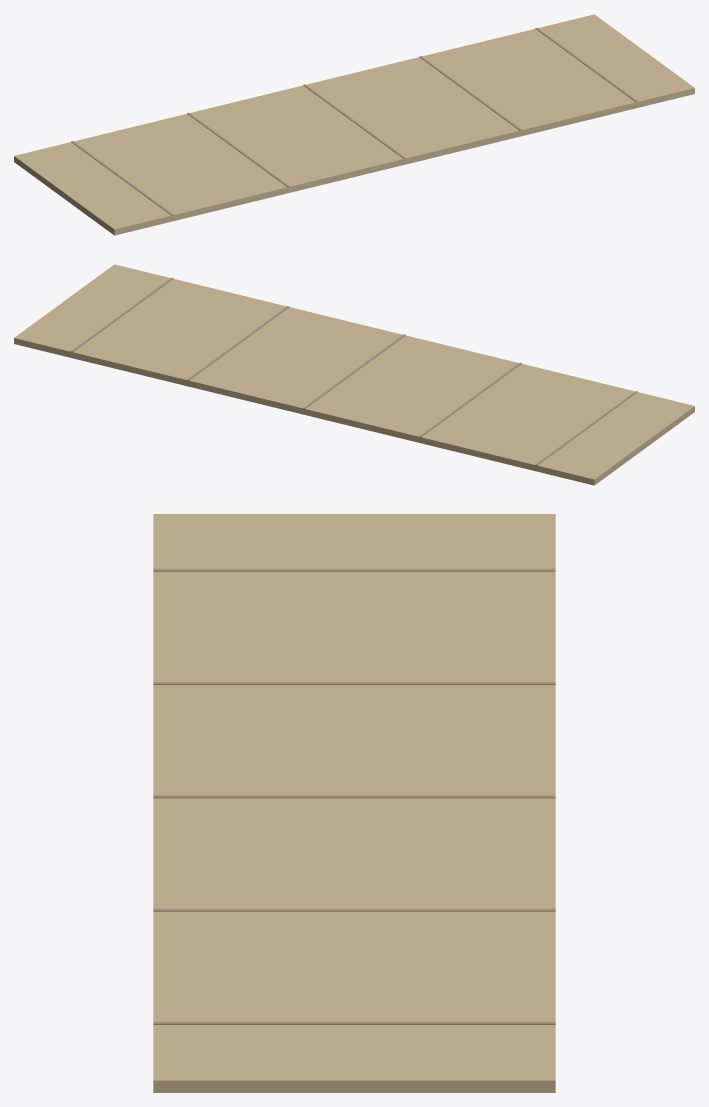
Rendered from sidewalk_segment.glb.
3 views of the same model, one above another, from view 1: azimuth 30°, elevation 25°; view 2: azimuth 150°, elevation 25°; view 3: azimuth 270°, elevation 25° (orthographic). The views are drawn at different scales.
Visible parts, largest first — view 1: _MeshInstance3D_438; view 2: _MeshInstance3D_438; view 3: _MeshInstance3D_438, _MeshInstance3D_439, _MeshInstance3D_441, _MeshInstance3D_442, _MeshInstance3D_443, _MeshInstance3D_440.
Part boxes in pixels (<box>): _MeshInstance3D_438: <box>14,14,694,235</box>; _MeshInstance3D_438: <box>14,264,694,485</box>; _MeshInstance3D_438: <box>153,514,555,1092</box>; _MeshInstance3D_439: <box>153,568,555,571</box>; _MeshInstance3D_441: <box>153,795,555,798</box>; _MeshInstance3D_442: <box>153,908,555,911</box>; _MeshInstance3D_443: <box>153,1021,555,1024</box>; _MeshInstance3D_440: <box>153,682,555,684</box>.
Size of the model in its own units: 10 by 0.11 by 3.
